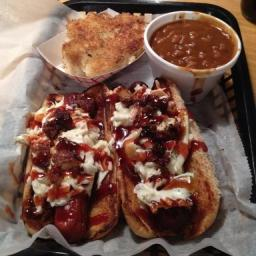hotdog: (53, 199, 90, 241), (128, 81, 153, 97)
